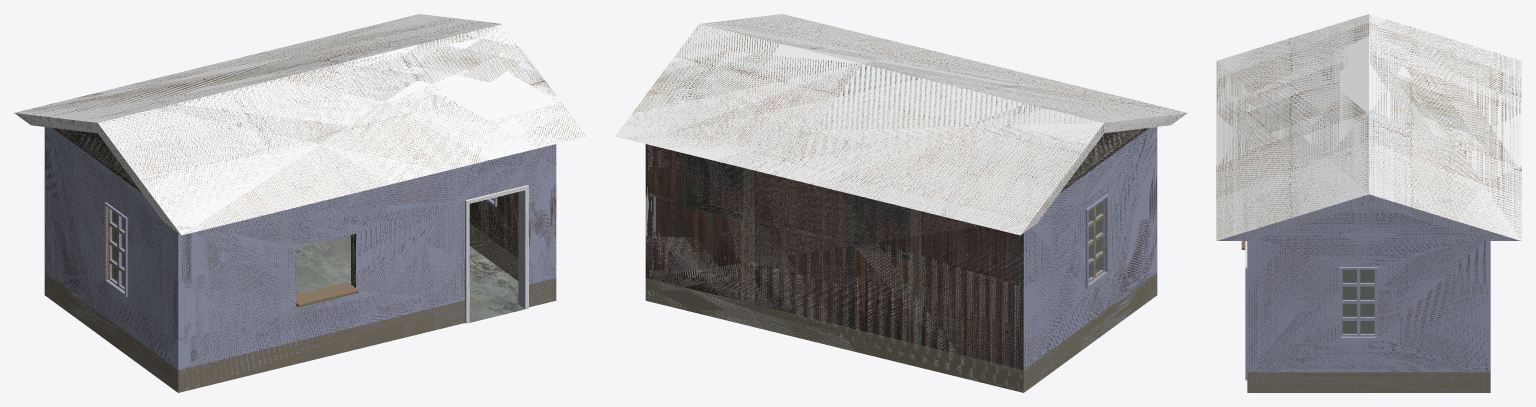
File: Shack 3.fbx
3 views of the same model, side by side, from view 1: azimuth 30°, elevation 25°; view 2: azimuth 150°, elevation 25°; view 3: azimuth 270°, elevation 25° (orthographic). The views are drawn at different scales.
Parts seen in each view (by area): view 1: Shack1; view 2: Shack1; view 3: Shack1.
Part boxes in pixels (left/top/right/bottom): Shack1: left=14, top=14, right=586, bottom=392; Shack1: left=615, top=14, right=1187, bottom=392; Shack1: left=1216, top=14, right=1521, bottom=392.
Size of the model in its own units: 6.78 by 3.59 by 4.85.
